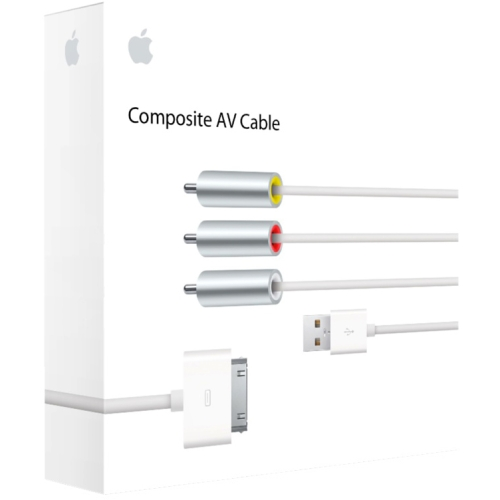Apple: (125, 18, 170, 81), (61, 18, 95, 79)
